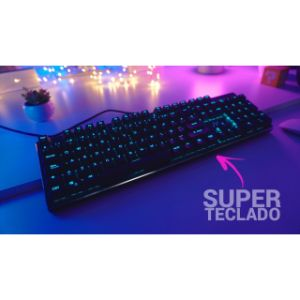keyboard: (35, 86, 276, 220)
